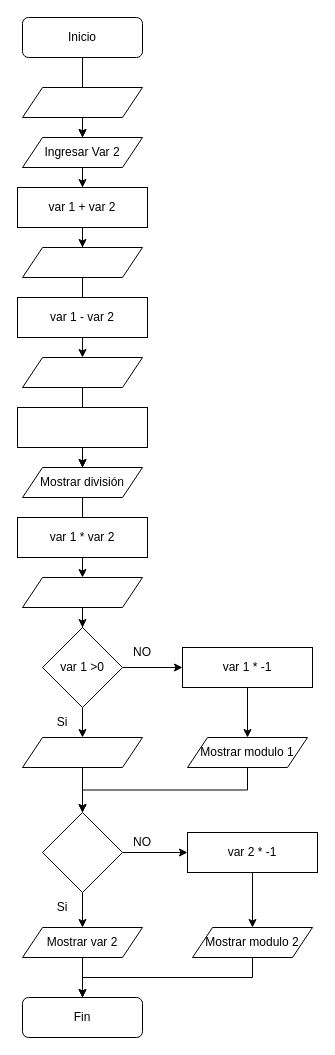
Some shapes in this 335 by 1055 pixel diagram are drawn without their labels. The shapes that lost their labels are listed below. From the top down, each one's centre as x and y in pixels, then its label:
point (82, 102): Ingresar Var 1
point (82, 262): Mostrar Suma
point (82, 372): Mostrar Resta
point (82, 427): var 1 / var 2
point (82, 592): Mostrar Multiplicacion
point (82, 752): Mostrar var 1
point (82, 852): var 2 >0
